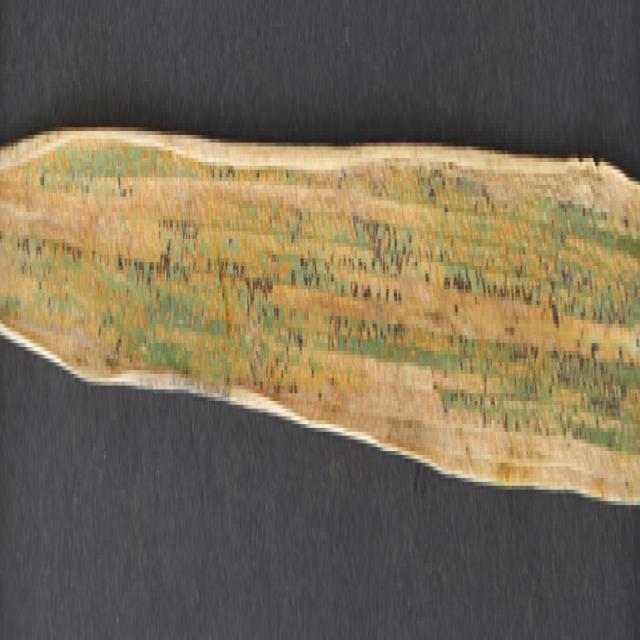leaf rust: (1, 131, 640, 509)
